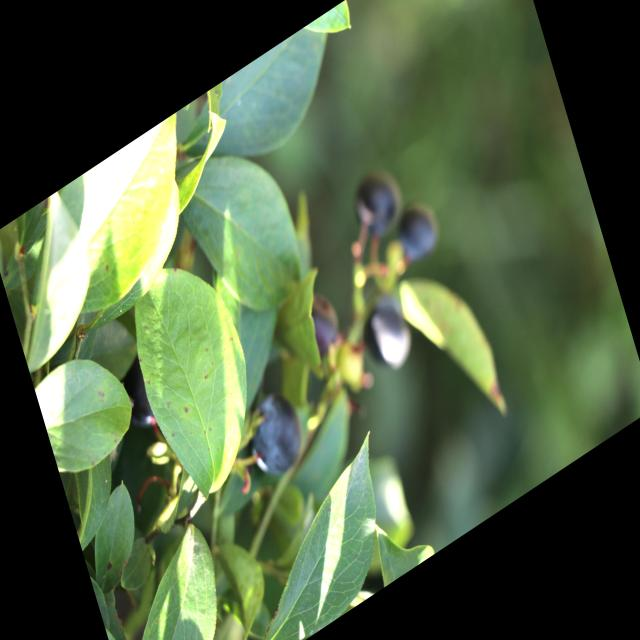blueberry: (242, 384, 313, 488), (356, 288, 420, 386), (350, 166, 406, 243), (294, 280, 347, 358), (392, 196, 442, 270)
